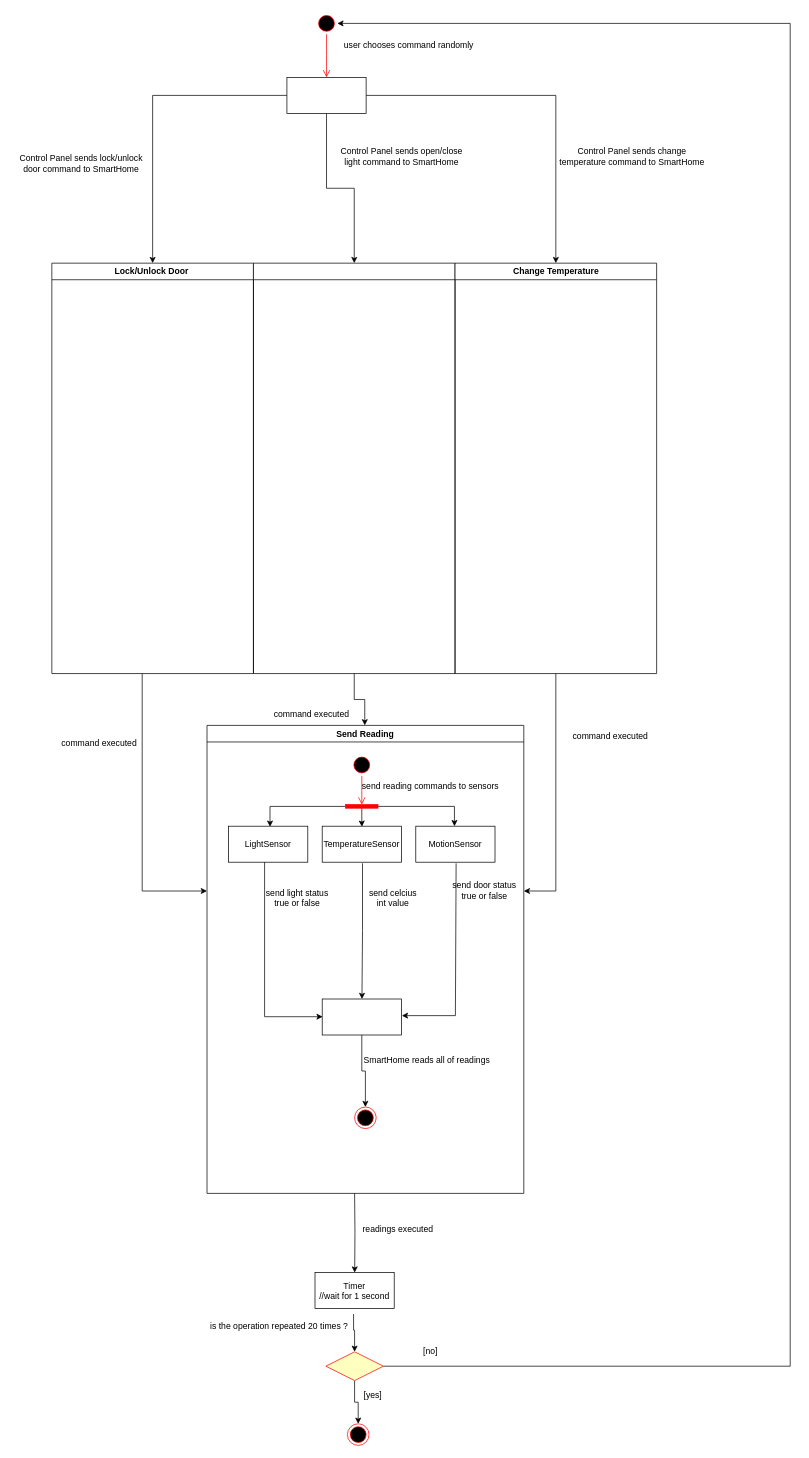
The diagram is 809 pixels wide and 1458 high, and some of its shapes have lost their labels. Each missing label, with the box of its shape:
IControlPanel: (286, 77, 366, 113)
Open/Close Light: (253, 262, 455, 674)
SmartHome: (321, 998, 401, 1035)
